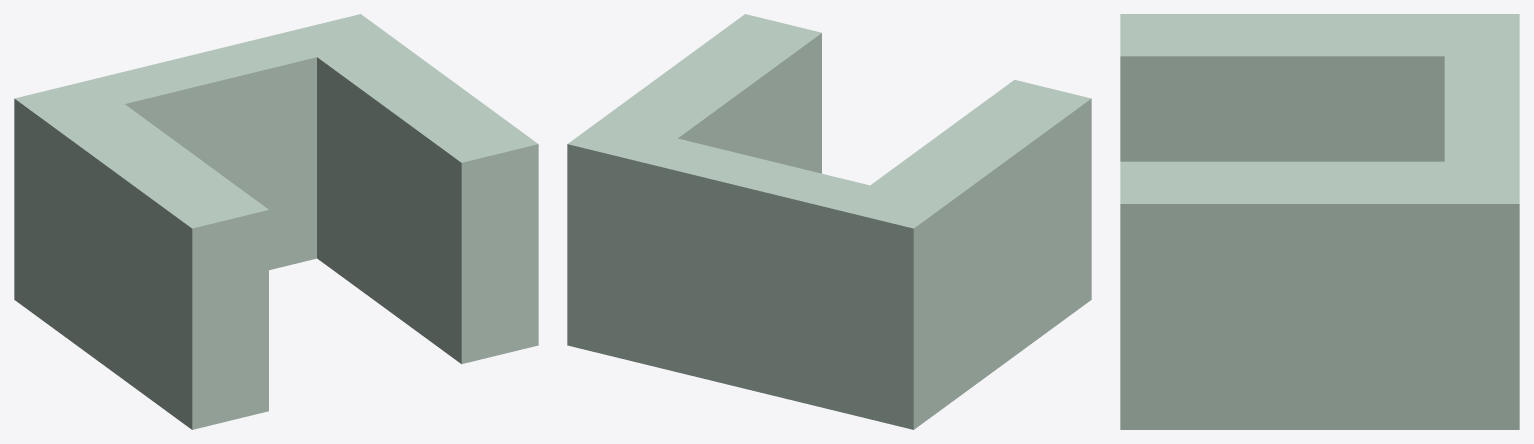
The model's file is Floors-4.obj.
3 views of the same model, side by side, from view 1: azimuth 30°, elevation 25°; view 2: azimuth 150°, elevation 25°; view 3: azimuth 270°, elevation 25° (orthographic). The views are drawn at different scales.
Bounding box in the file's own units: 1.8 × 1 × 1.6.
